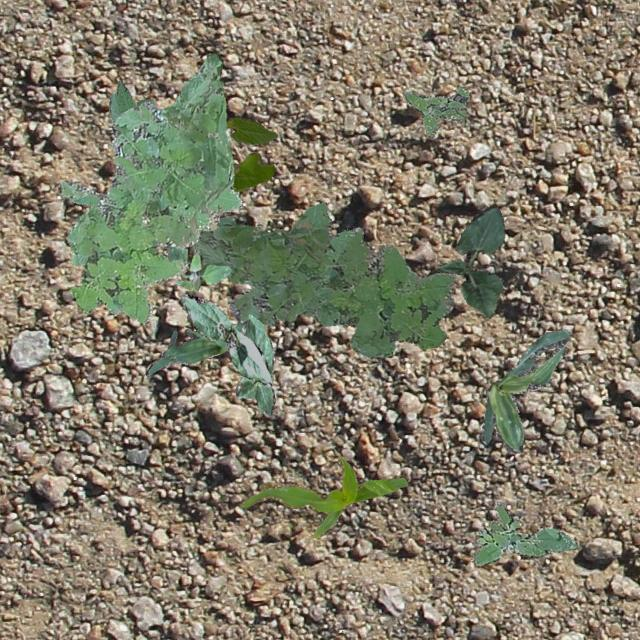crop: (240, 454, 407, 536), (480, 328, 570, 452), (180, 294, 270, 386), (434, 205, 502, 318), (144, 320, 242, 376), (233, 314, 274, 414), (108, 80, 146, 126), (224, 116, 276, 144)
weed: (59, 52, 240, 322), (192, 202, 454, 356), (469, 502, 576, 564), (402, 86, 468, 138), (166, 244, 230, 290), (232, 152, 274, 190)
